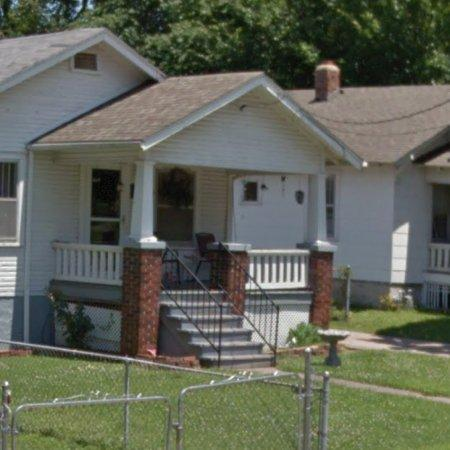stairs: (161, 249, 275, 368)
